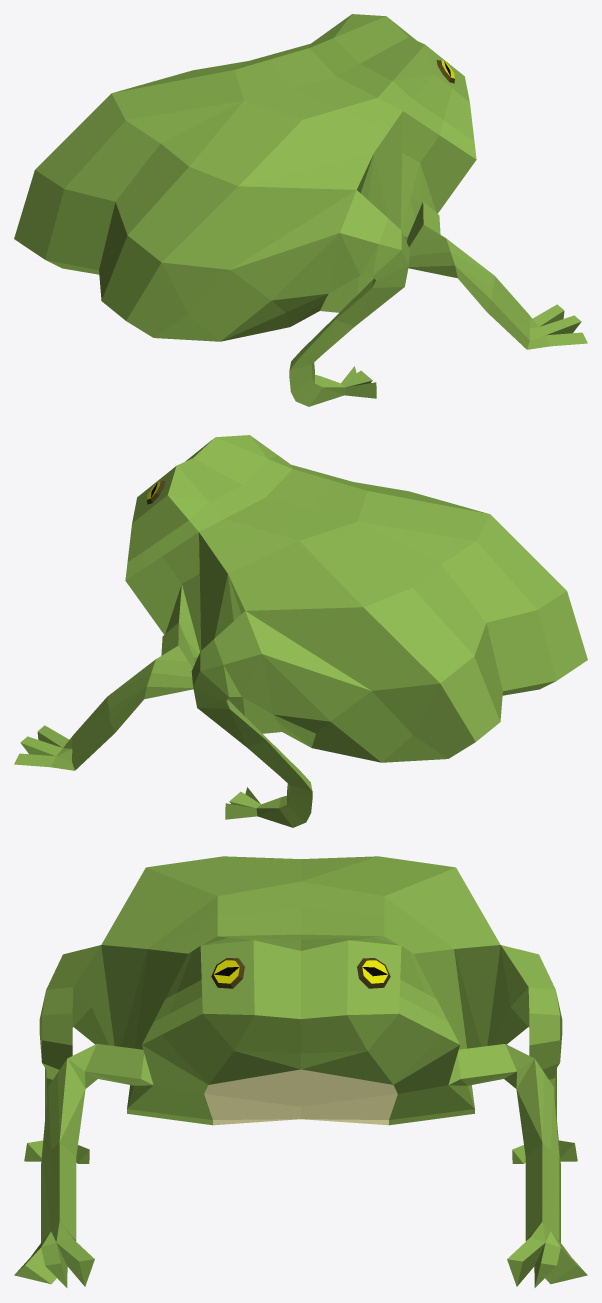
File: Frog (1).fbx
The picture shows the model from 3 angles, top to bottom: view 1: azimuth 30°, elevation 25°; view 2: azimuth 150°, elevation 25°; view 3: azimuth 270°, elevation 25°; orthographic projection. The views are drawn at different scales.
Visible parts, largest first — view 1: Cylinder; view 2: Cylinder; view 3: Cylinder.
Boxes of the visible parts, x1,y1,x2,y2 form: Cylinder: (14, 14, 587, 406); Cylinder: (14, 435, 587, 827); Cylinder: (14, 856, 587, 1287).
Bounding box in the file's own units: 330 × 194 × 330.
